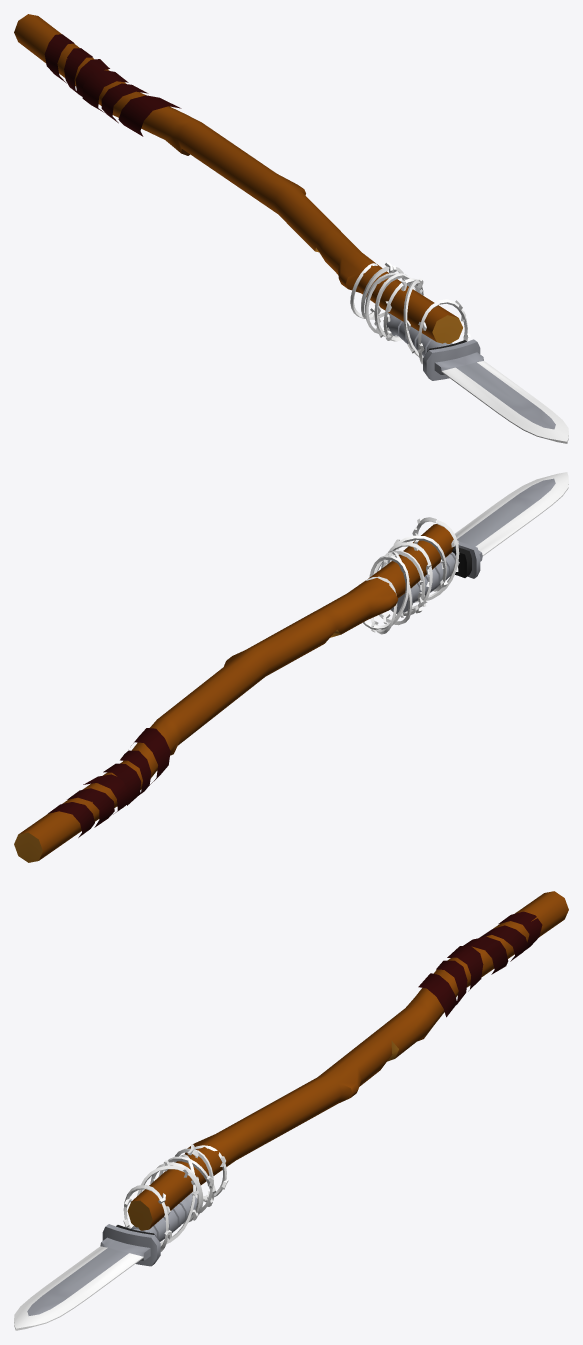
The model's file is Spear.glb.
3 renders of one model, top to bottom at view 1: azimuth 30°, elevation 25°; view 2: azimuth 150°, elevation 25°; view 3: azimuth 330°, elevation 25°, orthographic.
Visible parts, largest first — view 1: Spear; view 2: Spear; view 3: Spear.
Part boxes in pixels (left/top/right/bottom): Spear: left=14, top=14, right=568, bottom=443; Spear: left=14, top=472, right=568, bottom=862; Spear: left=14, top=891, right=568, bottom=1330.
Bounding box in the file's own units: 0.1366 × 0.154 × 2.01.
